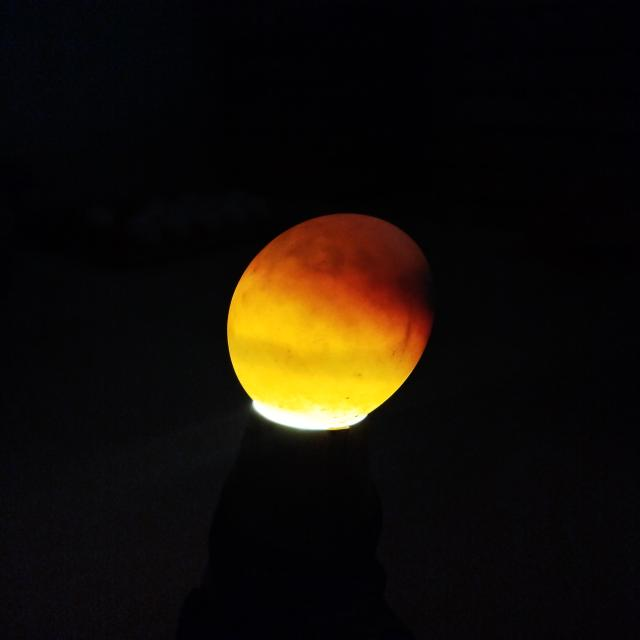Area Infectada: (399, 265, 436, 318)
